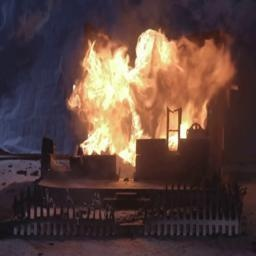fire: (61, 21, 235, 164)
